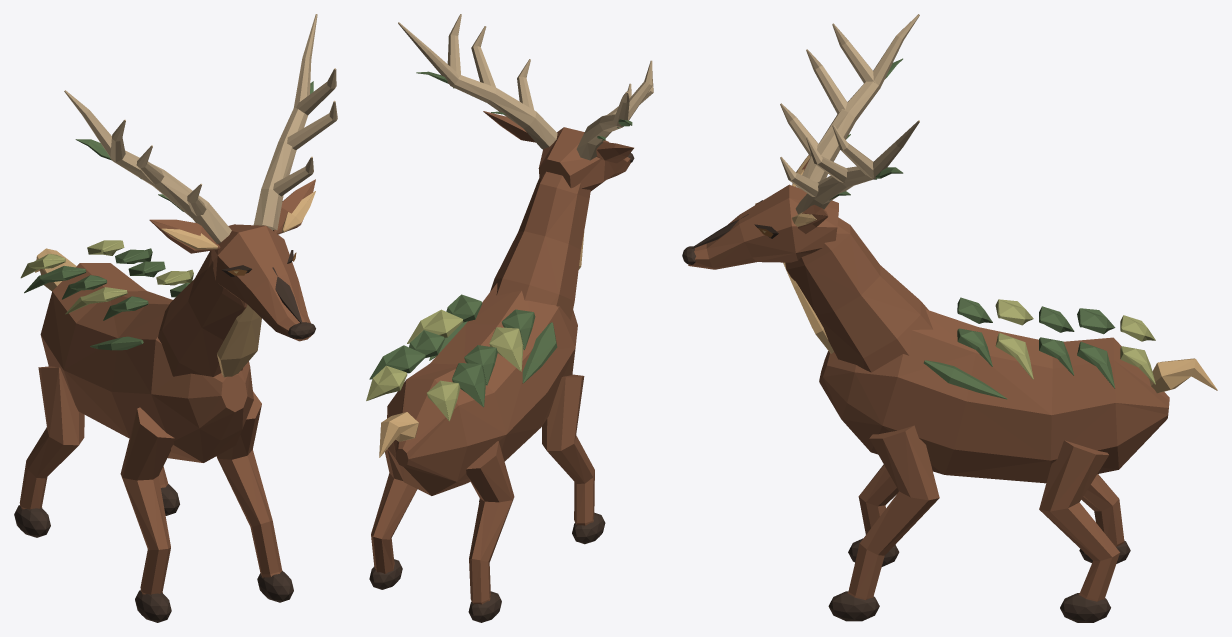
File: valley.glb
3 views of the same model, side by side, from view 1: azimuth 30°, elevation 25°; view 2: azimuth 150°, elevation 25°; view 3: azimuth 270°, elevation 25° (orthographic). The views are drawn at different scales.
Parts seen in each view (by area): view 1: Chestnut coat, Pale antler wood, Brow and hooves, Forest moss, Sand at the throat, Fern tips; view 2: Chestnut coat, Pale antler wood, Forest moss, Fern tips, Brow and hooves, Sand at the throat; view 3: Chestnut coat, Pale antler wood, Forest moss, Brow and hooves, Fern tips, Sand at the throat.
Boxes of the visible parts, <box> form: Chestnut coat: <box>19,179,315,594</box>; Pale antler wood: <box>64,14,337,244</box>; Brow and hooves: <box>14,250,315,622</box>; Forest moss: <box>24,81,313,350</box>; Sand at the throat: <box>35,191,315,377</box>; Fern tips: <box>20,240,193,314</box>; Chestnut coat: <box>371,111,633,604</box>; Pale antler wood: <box>398,14,653,160</box>; Forest moss: <box>369,71,632,407</box>; Fern tips: <box>366,309,523,421</box>; Brow and hooves: <box>369,153,634,622</box>; Sand at the throat: <box>379,148,634,457</box>; Chestnut coat: <box>688,159,1169,601</box>; Pale antler wood: <box>780,14,919,214</box>; Forest moss: <box>829,58,1115,399</box>; Brow and hooves: <box>682,200,1130,622</box>; Fern tips: <box>995,299,1155,384</box>; Sand at the throat: <box>783,155,1217,393</box>.
Size of the model in its own units: 1.77 by 3.63 by 3.29.
